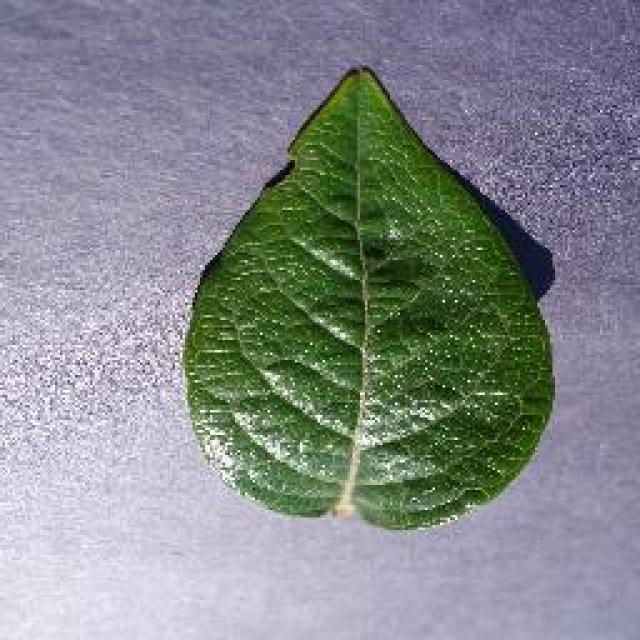Blu_healthy: (215, 143, 525, 518)
